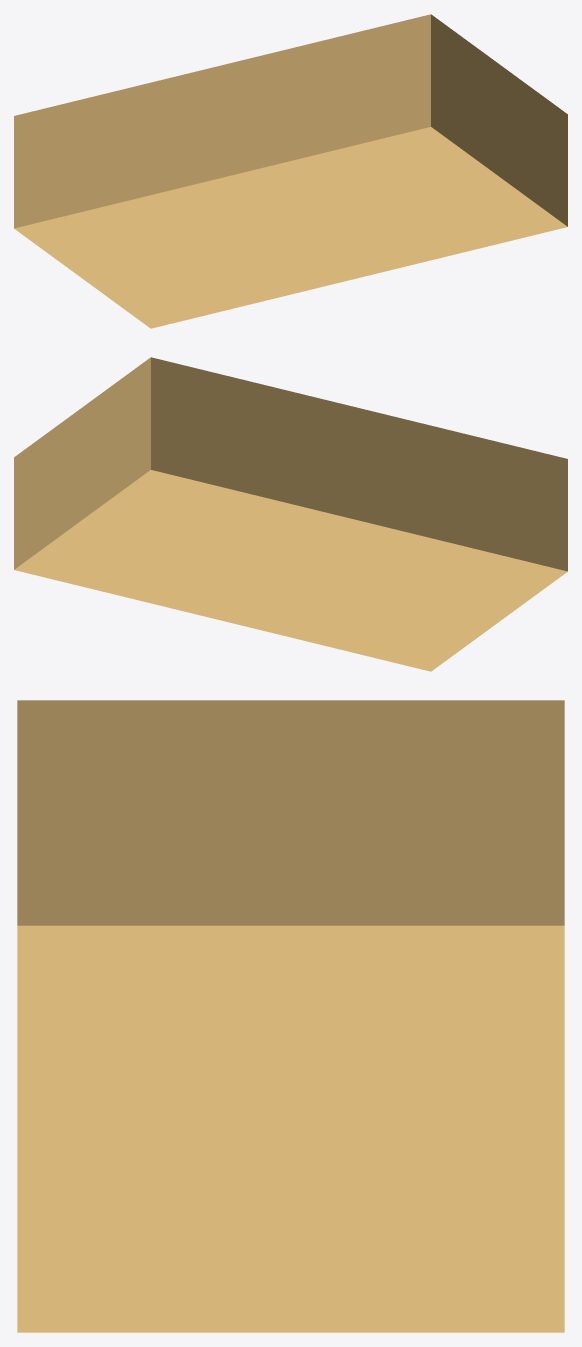
File: boards-quantum-garden-023.glb
3 renders of one model, top to bottom at view 1: azimuth 30°, elevation 25°; view 2: azimuth 150°, elevation 25°; view 3: azimuth 270°, elevation 25°, orthographic. The views are drawn at different scales.
Visible parts, largest first — view 1: Quantum Garden Boards; view 2: Quantum Garden Boards; view 3: Quantum Garden Boards.
Part boxes in pixels (box(x1,y1,x2,y2)): Quantum Garden Boards: box(14, 14, 567, 328); Quantum Garden Boards: box(14, 357, 567, 671); Quantum Garden Boards: box(17, 700, 564, 1332).
Size of the model in its own units: 1.9 by 0.49 by 1.08.
